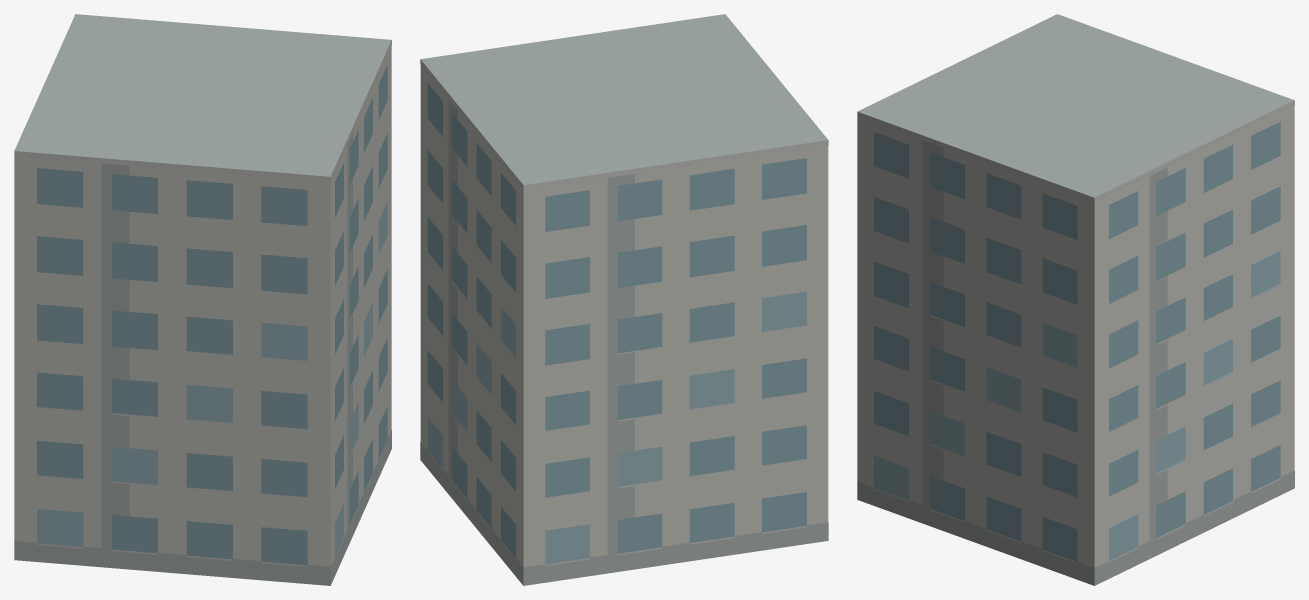
Rendered from survey-upis-32568482.glb.
3 views of the same model, side by side, from view 1: azimuth 30°, elevation 25°; view 2: azimuth 150°, elevation 25°; view 3: azimuth 270°, elevation 25° (orthographic). The views are drawn at different scales.
Visible parts, largest first — view 1: survey-upis-32568482.tmp; view 2: survey-upis-32568482.tmp; view 3: survey-upis-32568482.tmp.
Boxes of the visible parts, x1,y1,x2,y2 form: survey-upis-32568482.tmp: (14, 14, 391, 585); survey-upis-32568482.tmp: (420, 14, 828, 585); survey-upis-32568482.tmp: (857, 14, 1294, 585).
Bounding box in the file's own units: 18.59 × 18.3 × 18.7.
